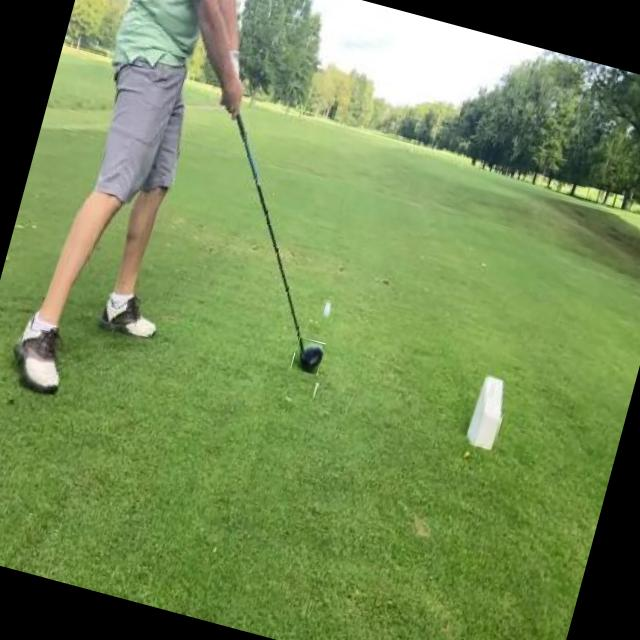club head: (290, 336, 326, 375)
